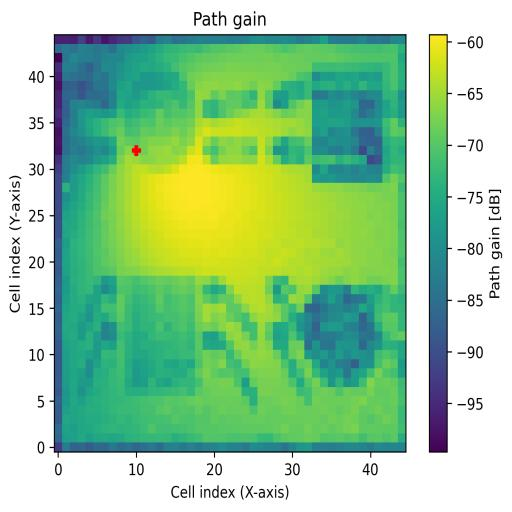Concrete: (311, 71, 383, 184)
Glass: (125, 72, 195, 174)
Metal: (298, 285, 382, 387)
Wood: (126, 277, 196, 396)
